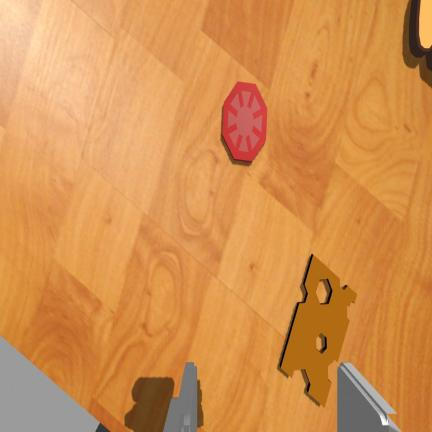cheese: (280, 255, 356, 406)
sliced_bread: (409, 0, 432, 70)
sliced_tomato: (222, 82, 267, 161)
